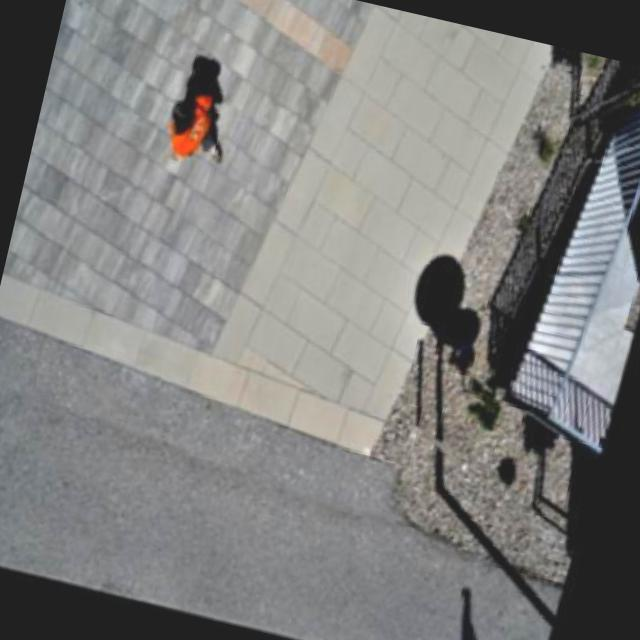Person: (143, 77, 245, 176)
